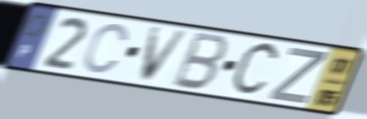2: (41, 15, 90, 71)
B: (169, 29, 233, 93)
C: (228, 40, 284, 100), (81, 22, 131, 76)
V: (138, 26, 193, 84)
Z: (265, 45, 330, 107)
